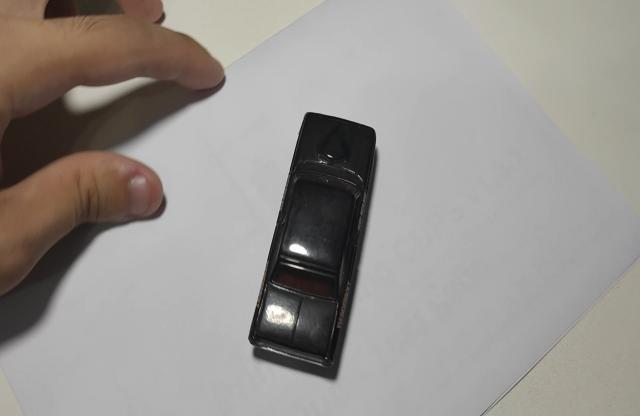01_FORD: (248, 112, 378, 377)
